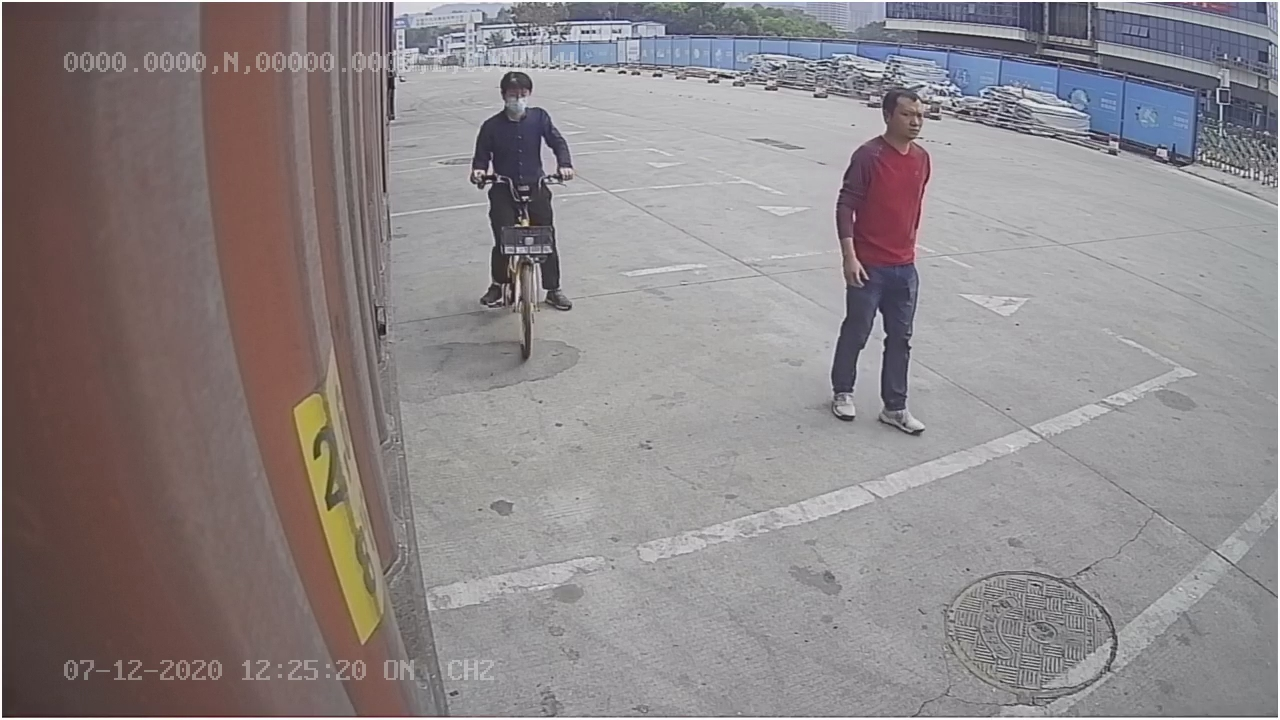person: (825, 86, 935, 441)
